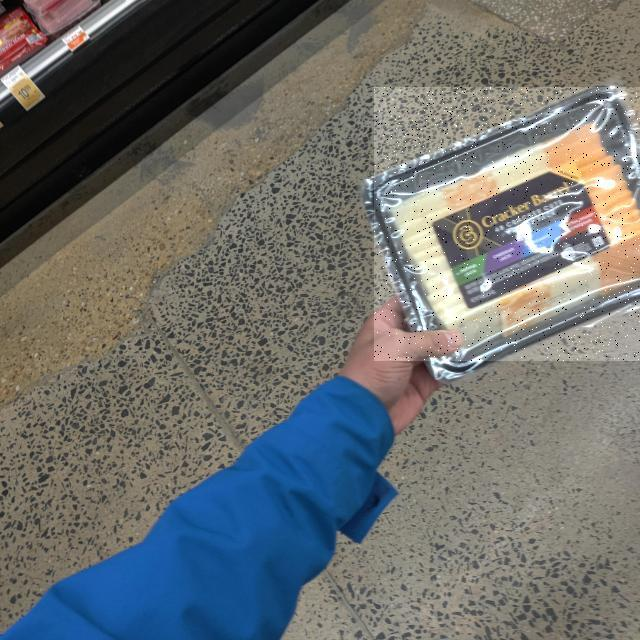Cheese: (374, 87, 640, 361)
